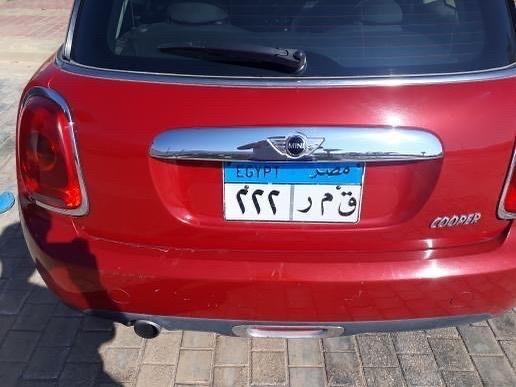carpl: (220, 150, 365, 219)
